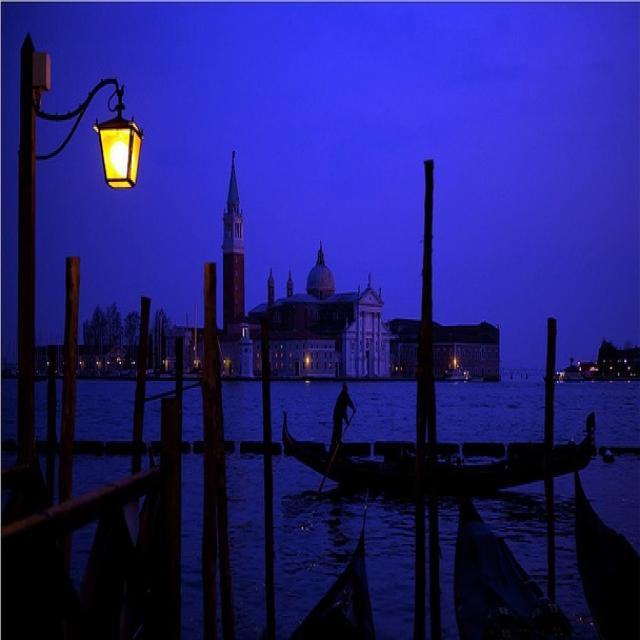Boat: (281, 412, 634, 532)
